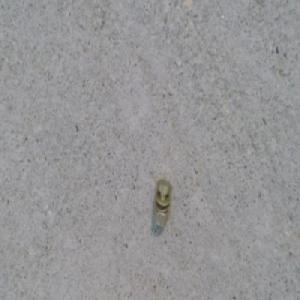BoltNutSet: (153, 178, 171, 225)
